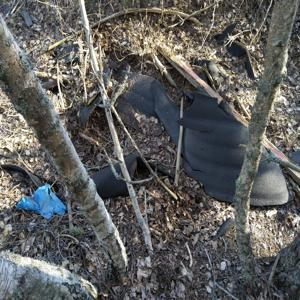plastic: (18, 182, 67, 221)
